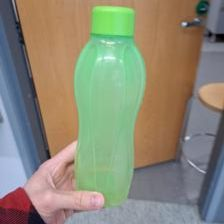bottle: (68, 5, 147, 209)
